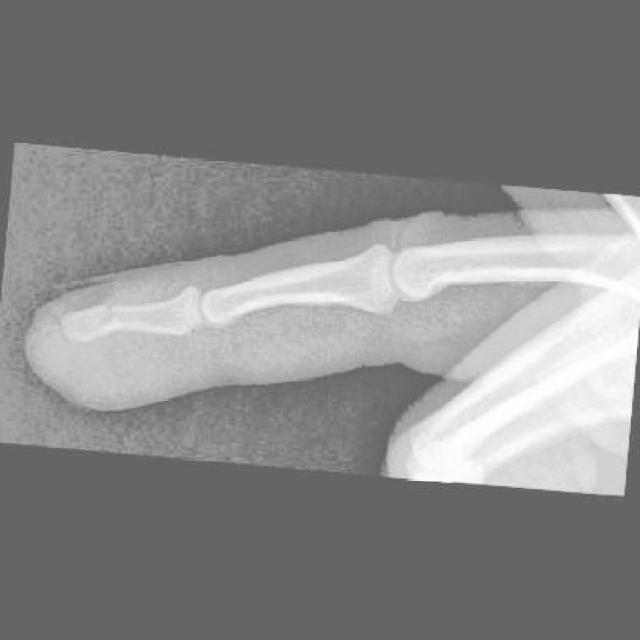Fracture: (86, 297, 134, 337)
